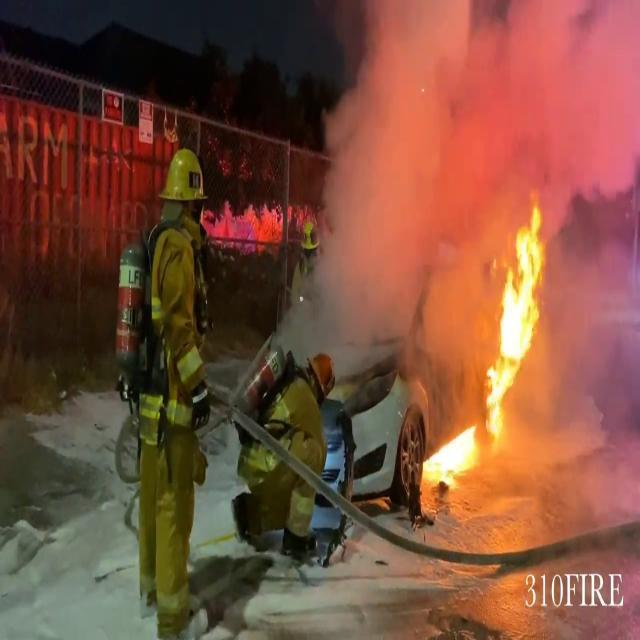Fire: (424, 200, 552, 488)
Smoke: (292, 1, 640, 334)
